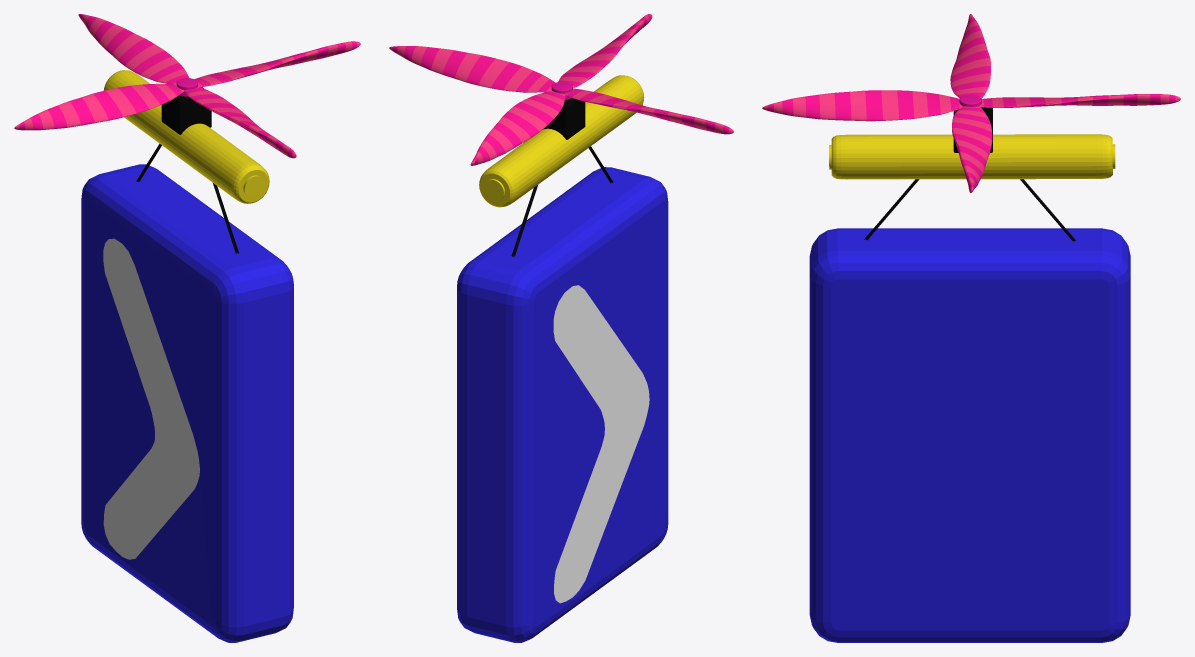
File: Sign.fbx
3 views of the same model, side by side, from view 1: azimuth 30°, elevation 25°; view 2: azimuth 150°, elevation 25°; view 3: azimuth 270°, elevation 25° (orthographic). The views are drawn at different scales.
Parts seen in each view (by area): view 1: Cube, Fans, Frame, Fan Box; view 2: Cube, Fans, Frame, Fan Box; view 3: Cube, Frame, Fans.
Part boxes in pixels (x1=…): Cube: x1=81, y1=164, x2=293, y2=642; Fans: x1=14, y1=14, x2=360, y2=158; Frame: x1=103, y1=70, x2=269, y2=203; Fan Box: x1=161, y1=87, x2=211, y2=134; Cube: x1=457, y1=167, x2=668, y2=642; Fans: x1=389, y1=14, x2=733, y2=165; Frame: x1=479, y1=75, x2=644, y2=207; Fan Box: x1=543, y1=98, x2=585, y2=139; Cube: x1=809, y1=228, x2=1130, y2=642; Frame: x1=829, y1=134, x2=1115, y2=179; Fans: x1=762, y1=14, x2=1180, y2=192.
Size of the model in its own units: 195 by 275 by 195.
